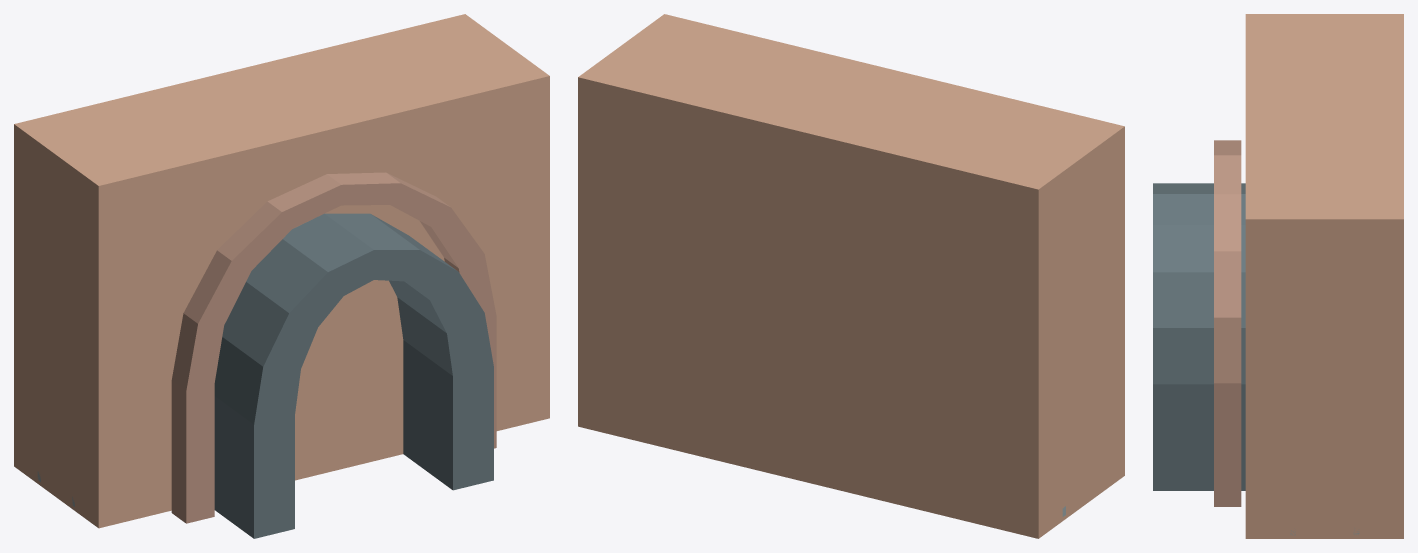
The model's file is rail_tunnel_mouth_near-ChSB0GuK.glb.
3 renders of one model, left to right at view 1: azimuth 30°, elevation 25°; view 2: azimuth 150°, elevation 25°; view 3: azimuth 270°, elevation 25°, orthographic. The views are drawn at different scales.
Parts seen in each view (by area): view 1: rail_tunnel_mouth_near; view 2: rail_tunnel_mouth_near; view 3: rail_tunnel_mouth_near.
Boxes of the visible parts, x1,y1,x2,y2 form: rail_tunnel_mouth_near: (14, 14, 549, 538); rail_tunnel_mouth_near: (578, 14, 1124, 538); rail_tunnel_mouth_near: (1153, 14, 1403, 538).
Size of the model in its own units: 16 by 11.6 by 8.25.
